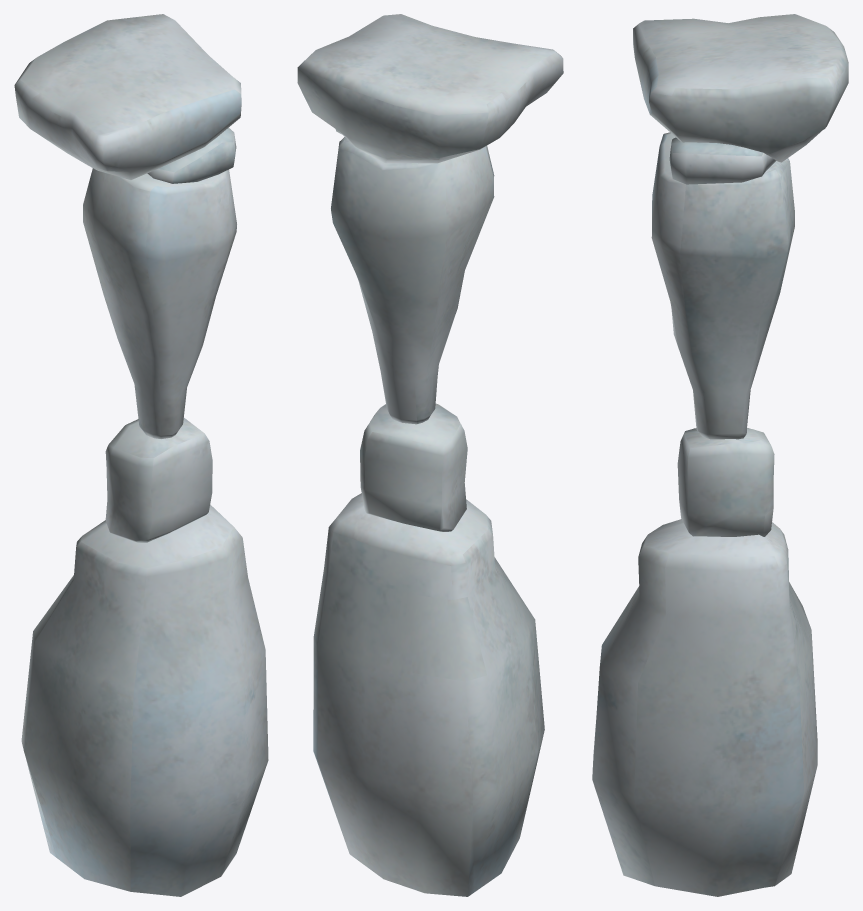
The model's file is P_RockDesert_Hoodoo13.obj.
The picture shows the model from 3 angles, left to right: view 1: azimuth 30°, elevation 25°; view 2: azimuth 150°, elevation 25°; view 3: azimuth 270°, elevation 25°; orthographic projection. The views are drawn at different scales.
Bounding box in the file's own units: 4.13 × 17.12 × 4.72.
